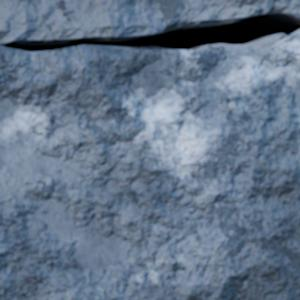brick: (0, 31, 299, 299)
crack: (1, 0, 299, 52)
